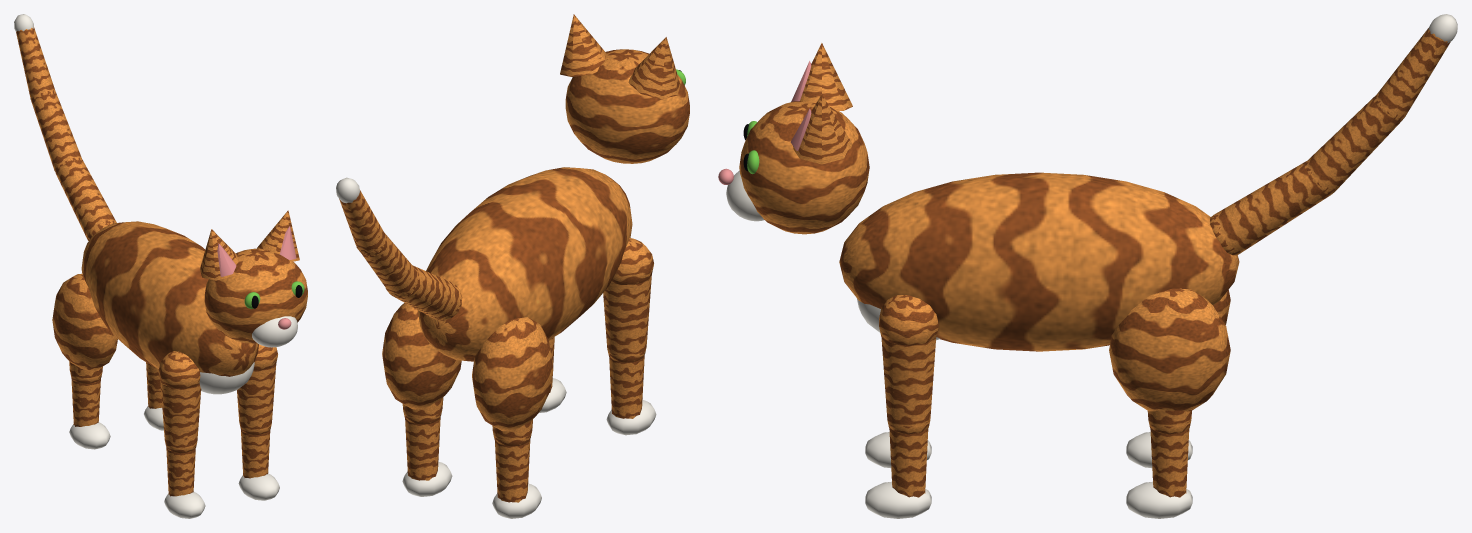
The model's file is cat.glb.
3 renders of one model, left to right at view 1: azimuth 30°, elevation 25°; view 2: azimuth 150°, elevation 25°; view 3: azimuth 270°, elevation 25°, orthographic. The views are drawn at different scales.
Parts seen in each view (by area): view 1: Cat_Body, Cat_Head, Cat_Leg_BR_Upper, Cat_Leg_FR_Upper, Cat_Tail1, Cat_Leg_FL_Upper, Cat_Leg_BR_Lower, Cat_Leg_FL_Lower, Cat_Leg_FR_Lower, Cat_Tail2, Cat_Tail3, Cat_Ear_R (+2 smaller); view 2: Cat_Body, Cat_Head, Cat_Leg_BR_Upper, Cat_Leg_BL_Upper, Cat_Leg_FR_Upper, Cat_Leg_BL_Lower, Cat_Leg_FR_Lower, Cat_Leg_BR_Lower, Cat_Tail3, Cat_Ear_R, Cat_Tail1, Cat_Tail2 (+2 smaller); view 3: Cat_Body, Cat_Leg_BL_Upper, Cat_Head, Cat_Leg_FL_Upper, Cat_Tail1, Cat_Leg_FL_Lower, Cat_Leg_BL_Lower, Cat_Tail2, Cat_Tail3, Cat_Ear_L, Cat_Ear_R.
Boxes of the visible parts, x1,y1,x2,y2 form: Cat_Body: [81, 221, 258, 394]; Cat_Head: [204, 248, 307, 347]; Cat_Leg_BR_Upper: [52, 273, 117, 377]; Cat_Leg_FR_Upper: [158, 351, 201, 447]; Cat_Tail1: [55, 158, 116, 240]; Cat_Leg_FL_Upper: [237, 344, 277, 429]; Cat_Leg_BR_Lower: [69, 371, 110, 449]; Cat_Leg_FL_Lower: [238, 422, 279, 500]; Cat_Leg_FR_Lower: [164, 441, 205, 518]; Cat_Tail2: [31, 91, 81, 172]; Cat_Tail3: [14, 14, 55, 100]; Cat_Ear_R: [200, 229, 238, 280]; Cat_Body: [418, 167, 632, 361]; Cat_Head: [565, 49, 689, 163]; Cat_Leg_BR_Upper: [472, 317, 553, 439]; Cat_Leg_BL_Upper: [382, 303, 461, 417]; Cat_Leg_FR_Upper: [603, 238, 653, 355]; Cat_Leg_BL_Lower: [402, 410, 452, 496]; Cat_Leg_FR_Lower: [606, 348, 656, 435]; Cat_Leg_BR_Lower: [492, 432, 541, 518]; Cat_Tail3: [336, 177, 386, 256]; Cat_Ear_R: [628, 37, 680, 98]; Cat_Tail1: [395, 265, 462, 320]; Cat_Tail2: [361, 235, 419, 298]; Cat_Body: [839, 172, 1239, 351]; Cat_Leg_BL_Upper: [1109, 288, 1230, 426]; Cat_Head: [718, 101, 869, 234]; Cat_Leg_FL_Upper: [879, 295, 938, 426]; Cat_Tail1: [1210, 161, 1330, 255]; Cat_Leg_FL_Lower: [865, 420, 931, 518]; Cat_Leg_BL_Lower: [1126, 420, 1192, 518]; Cat_Tail2: [1304, 95, 1402, 196]; Cat_Tail3: [1374, 14, 1457, 122]; Cat_Ear_L: [790, 94, 852, 164]; Cat_Ear_R: [791, 43, 852, 111].
Bounding box in the file's own units: 0.232 × 0.6025 × 0.8497.
5 materials, 1 textured.
